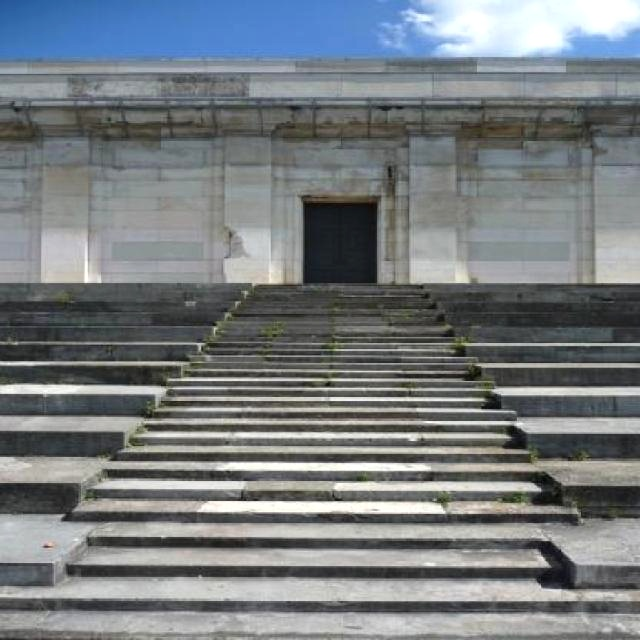stair: (0, 281, 640, 610)
